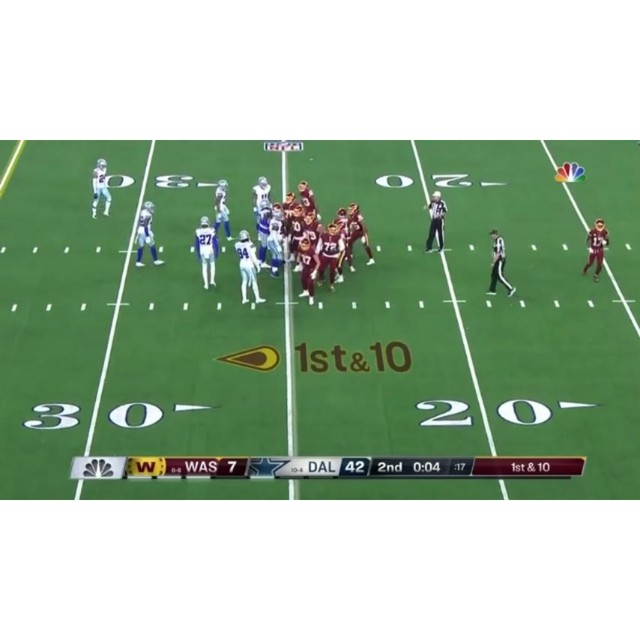american-football-player: (234, 231, 265, 308), (191, 216, 221, 290), (254, 202, 282, 278), (315, 225, 345, 294), (133, 201, 164, 267), (347, 202, 377, 267), (293, 238, 320, 305), (582, 219, 609, 283), (90, 158, 114, 219), (211, 180, 233, 240), (297, 180, 321, 220), (252, 176, 272, 218)
referee: (486, 228, 517, 296), (424, 190, 448, 254)
